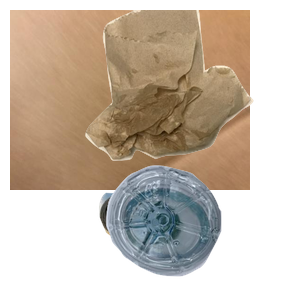cardboard: (10, 10, 250, 190)
glass: (96, 190, 230, 300)
plastic: (104, 163, 300, 300)
trash: (83, 10, 300, 163)
